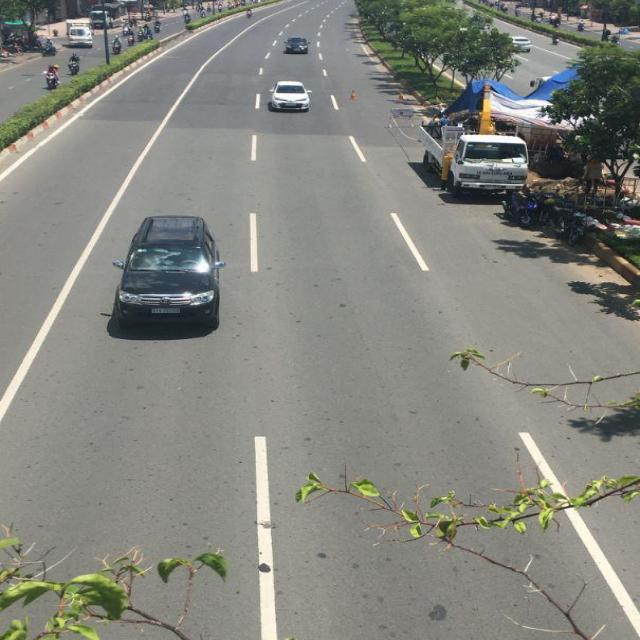car: (108, 213, 226, 336), (269, 80, 312, 113), (287, 39, 310, 55), (512, 38, 532, 53)
truck: (416, 108, 530, 197), (66, 17, 94, 43)
